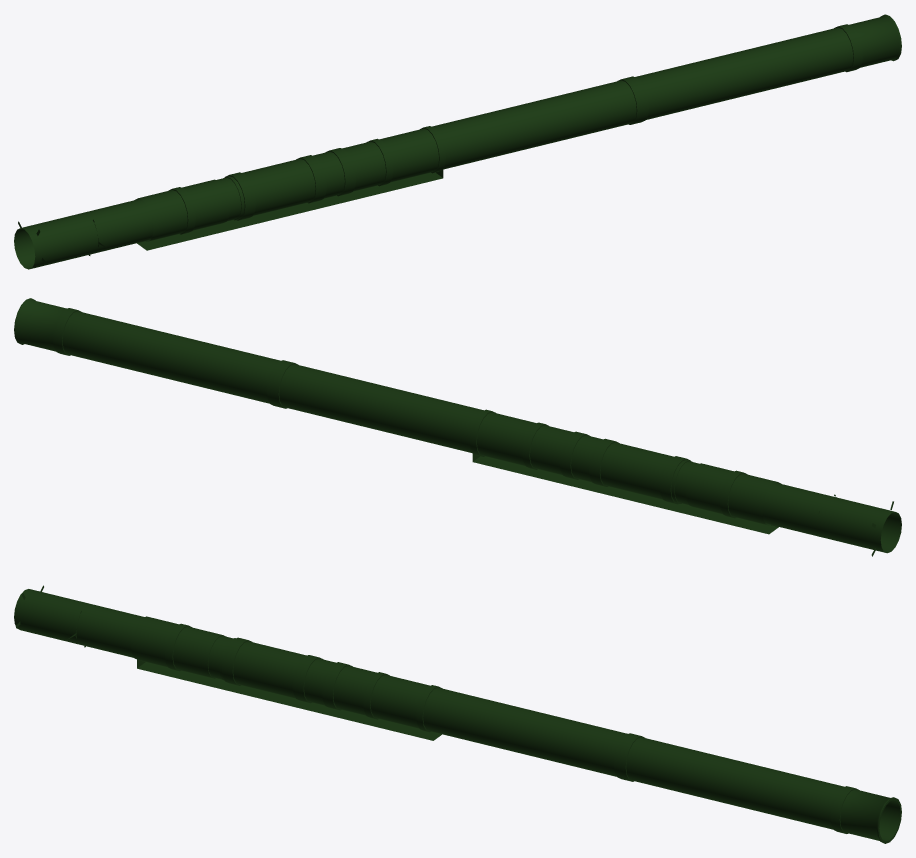
File: ПусковаяТруба_П.fbx
3 views of the same model, one above another, from view 1: azimuth 30°, elevation 25°; view 2: azimuth 150°, elevation 25°; view 3: azimuth 330°, elevation 25° (orthographic).
Visible parts, largest first — view 1: Труба; view 2: Труба; view 3: Труба.
Boxes of the visible parts, x1,y1,x2,y2 form: Труба: (14, 14, 901, 269); Труба: (14, 298, 901, 556); Труба: (14, 585, 901, 843).
Bounding box in the file's own units: 1699 × 95.6 × 115.
